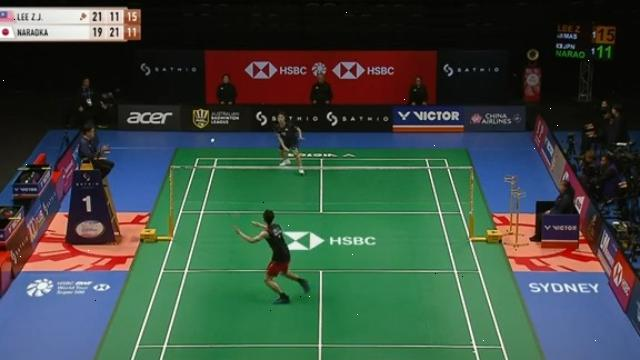Shuttlecock: (208, 133, 218, 145)
